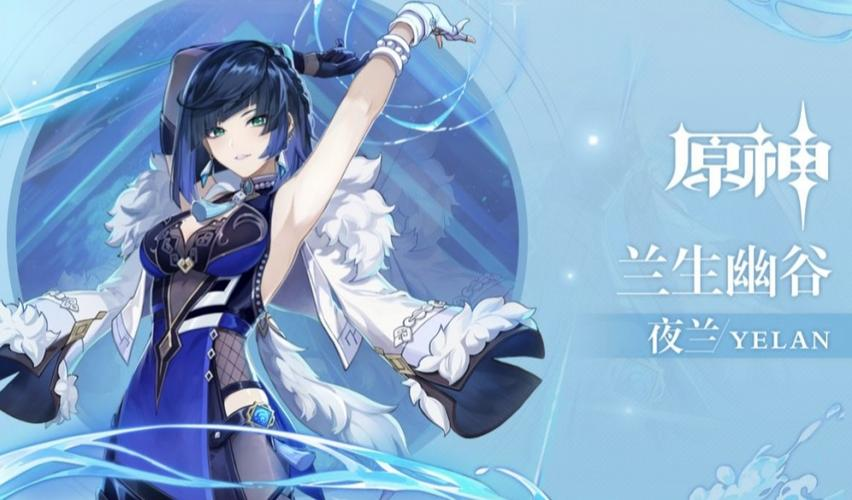夜兰: (84, 2, 474, 500)
